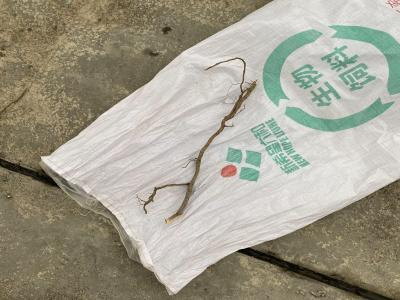Root: (139, 57, 257, 224)
